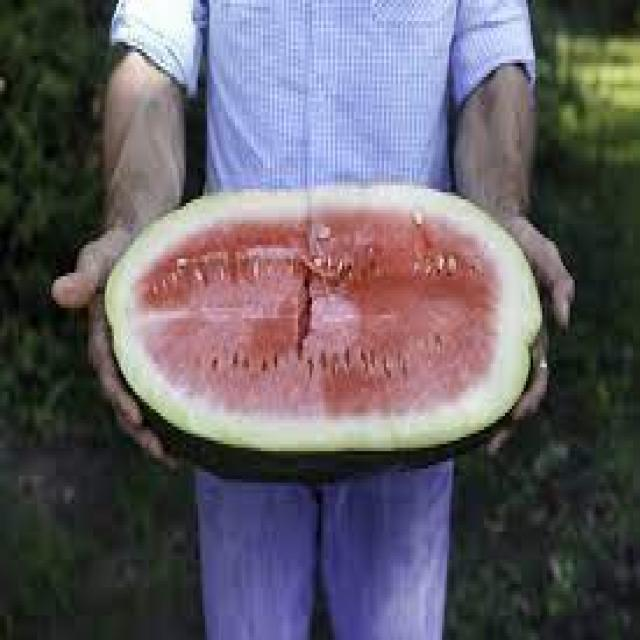watermelon: (102, 182, 544, 476)
